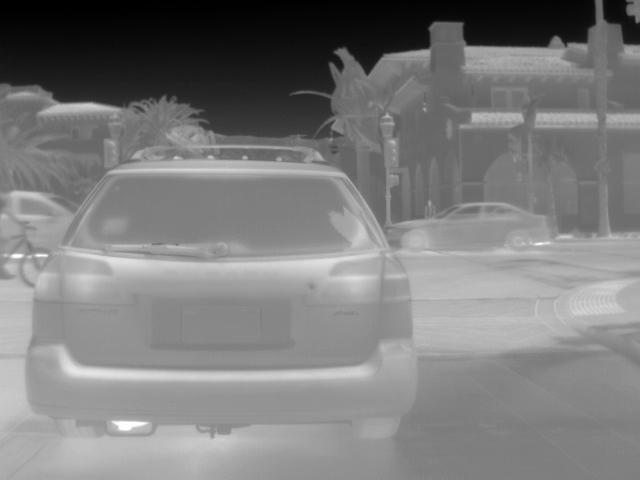car: (26, 157, 420, 438), (388, 201, 551, 250), (3, 190, 79, 257)
person: (424, 197, 436, 219)
